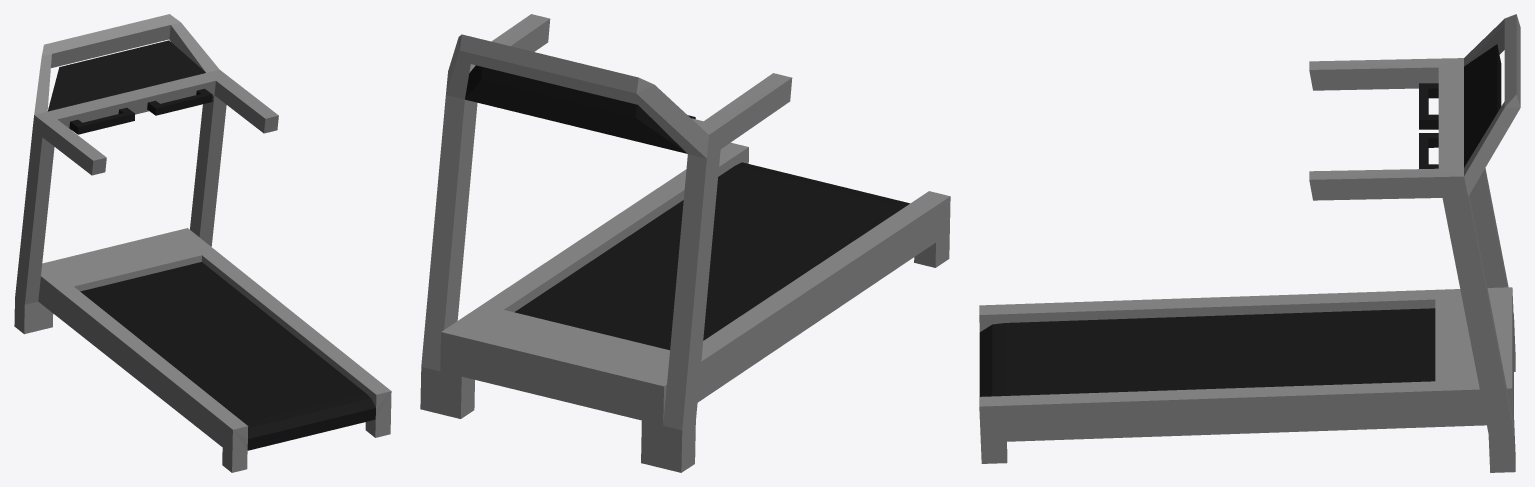
The model's file is Trademill.fbx.
3 views of the same model, side by side, from view 1: azimuth 30°, elevation 25°; view 2: azimuth 150°, elevation 25°; view 3: azimuth 270°, elevation 25° (orthographic). The views are drawn at different scales.
Visible parts, largest first — view 1: Trademill; view 2: Trademill; view 3: Trademill.
Boxes of the visible parts, x1,y1,x2,y2 form: Trademill: [14, 14, 391, 472]; Trademill: [420, 14, 950, 472]; Trademill: [979, 14, 1520, 472].
Bounding box in the file's own units: 128 × 181 × 247.
